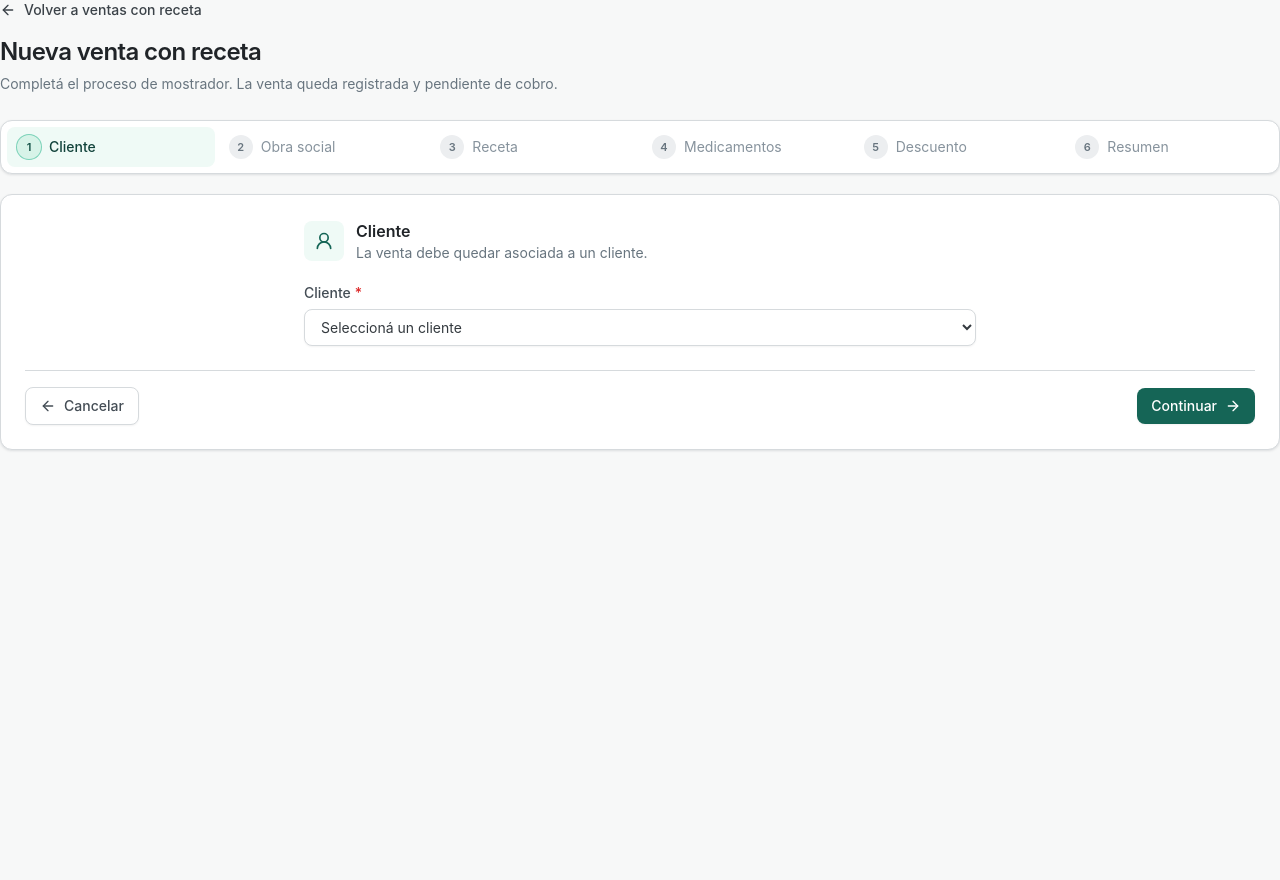
Test: deshabilita el vencido en venta con receta
The width and height of the screenshot is (1280, 880).
Select "González, María — DNI 28456789" in the dropdown labelled "Cliente*" at [640, 328], box [304,309,976,346]
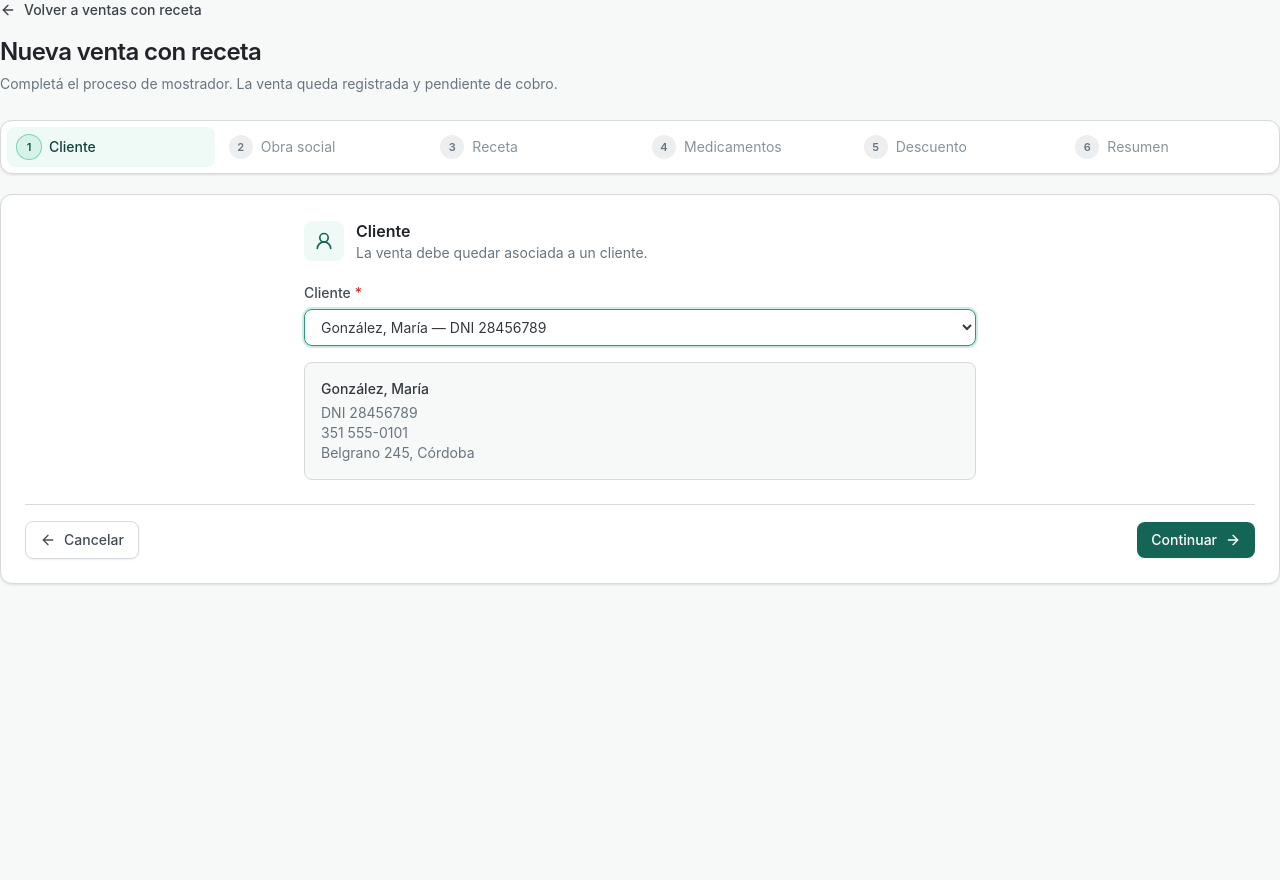
Click the button "Continuar" at [1196, 540], box [1137,522,1255,558]
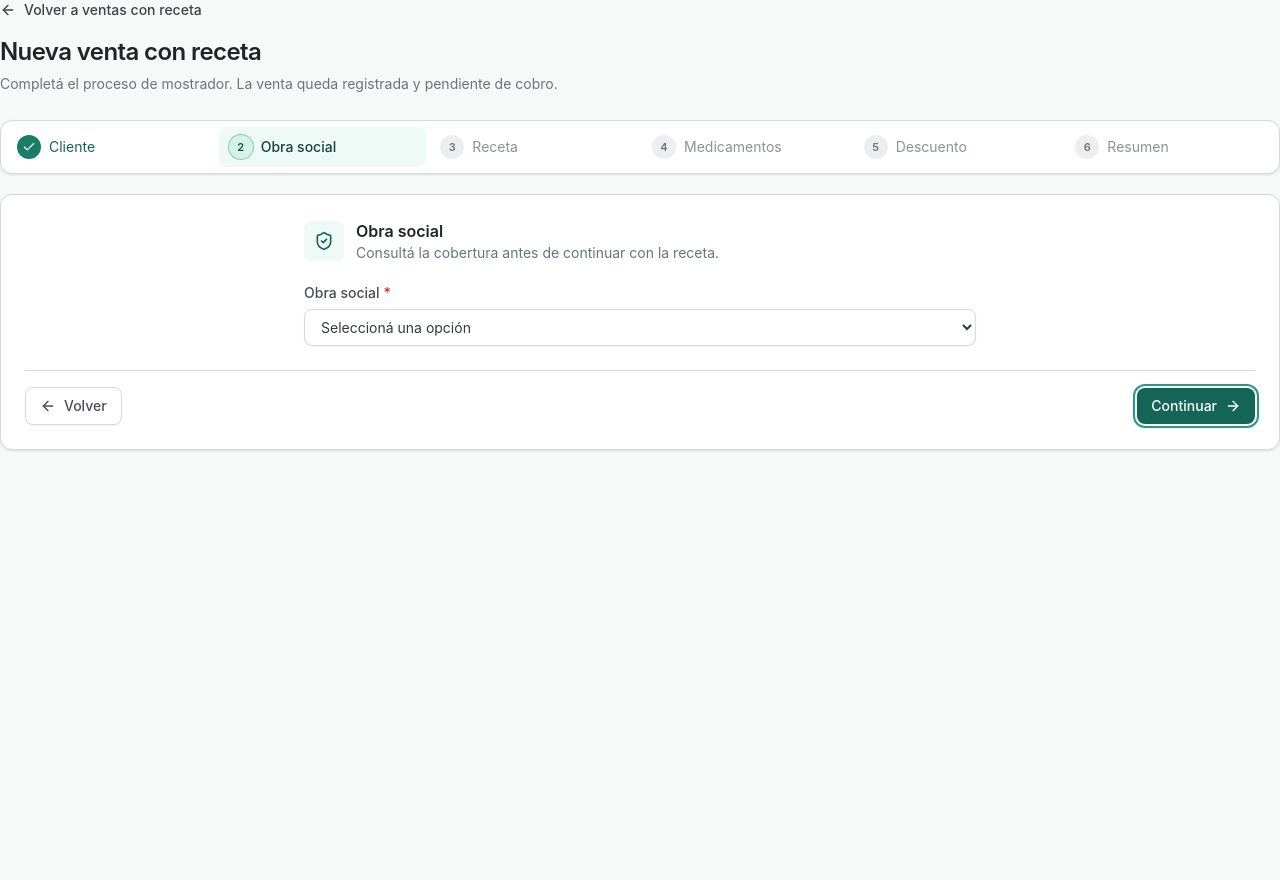
Select "Sin obra social" in the dropdown labelled "Obra social*" at [640, 328], box [304,309,976,346]
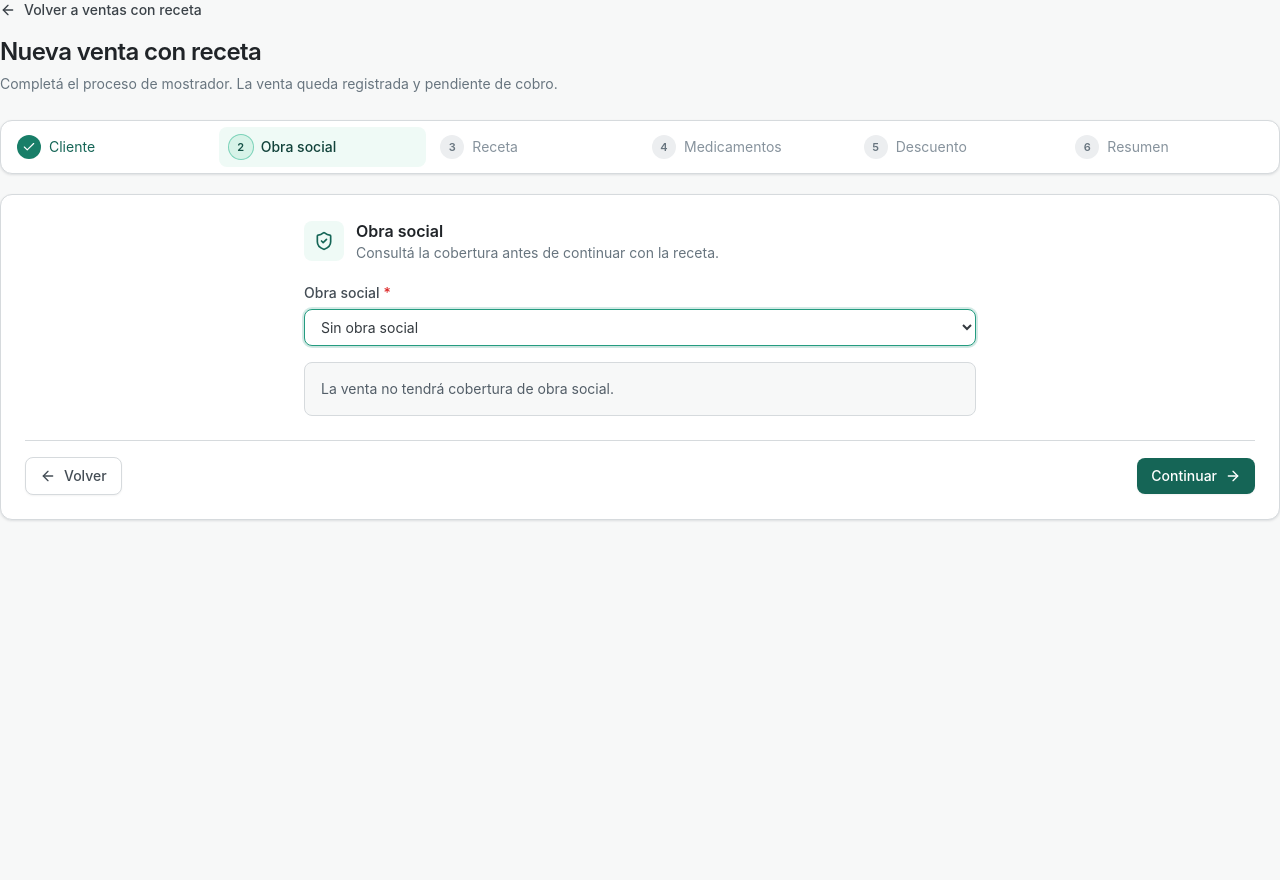
Click the button "Continuar" at [1196, 476], box [1137,458,1255,494]
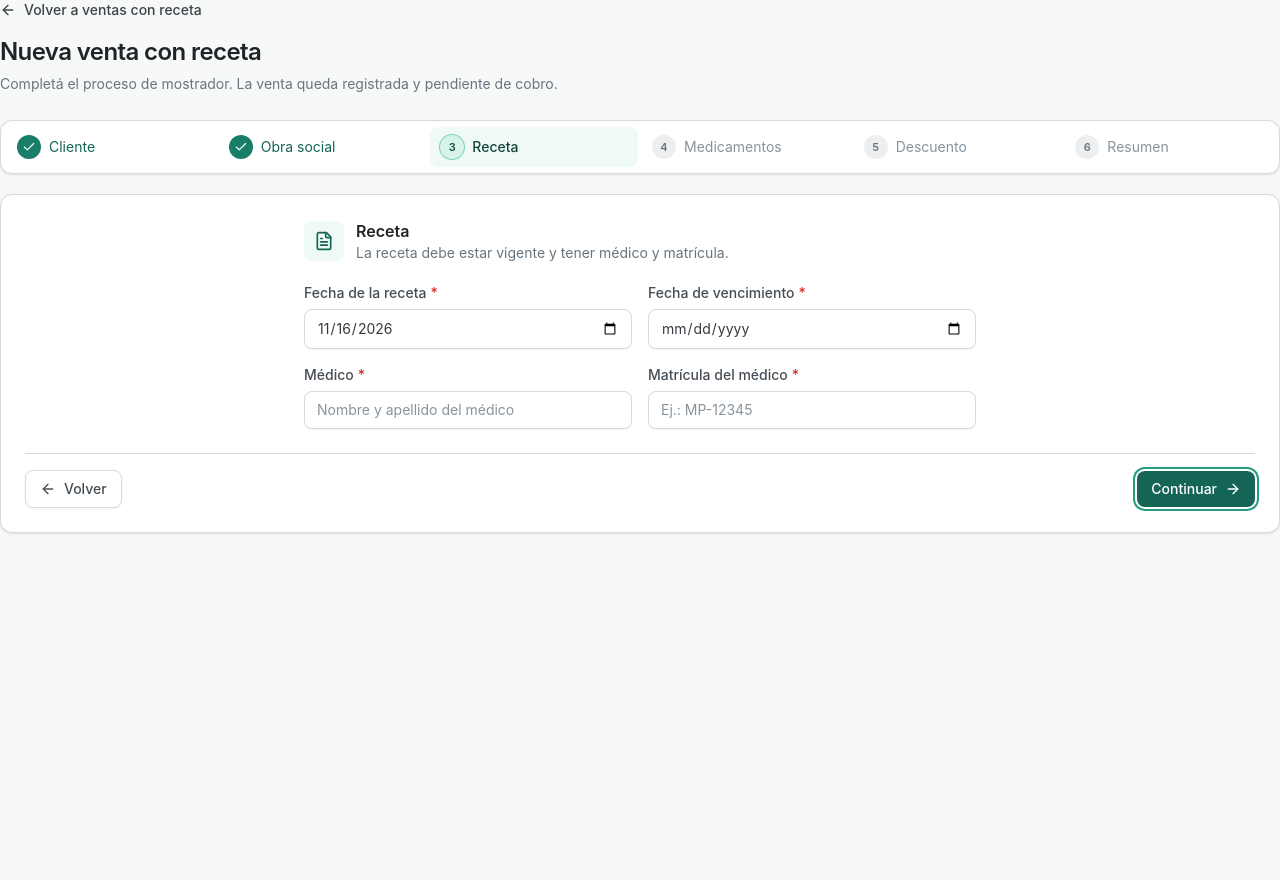
Type "2026-12-16" into the date field labelled "Fecha de vencimiento*" at [812, 329], box [648,309,976,349]
Type "Dra. Pérez" into the field labelled "Médico*" at [468, 410], box [304,391,632,429]
Type "MP123" into the field labelled "Matrícula del médico*" at [812, 410], box [648,391,976,429]
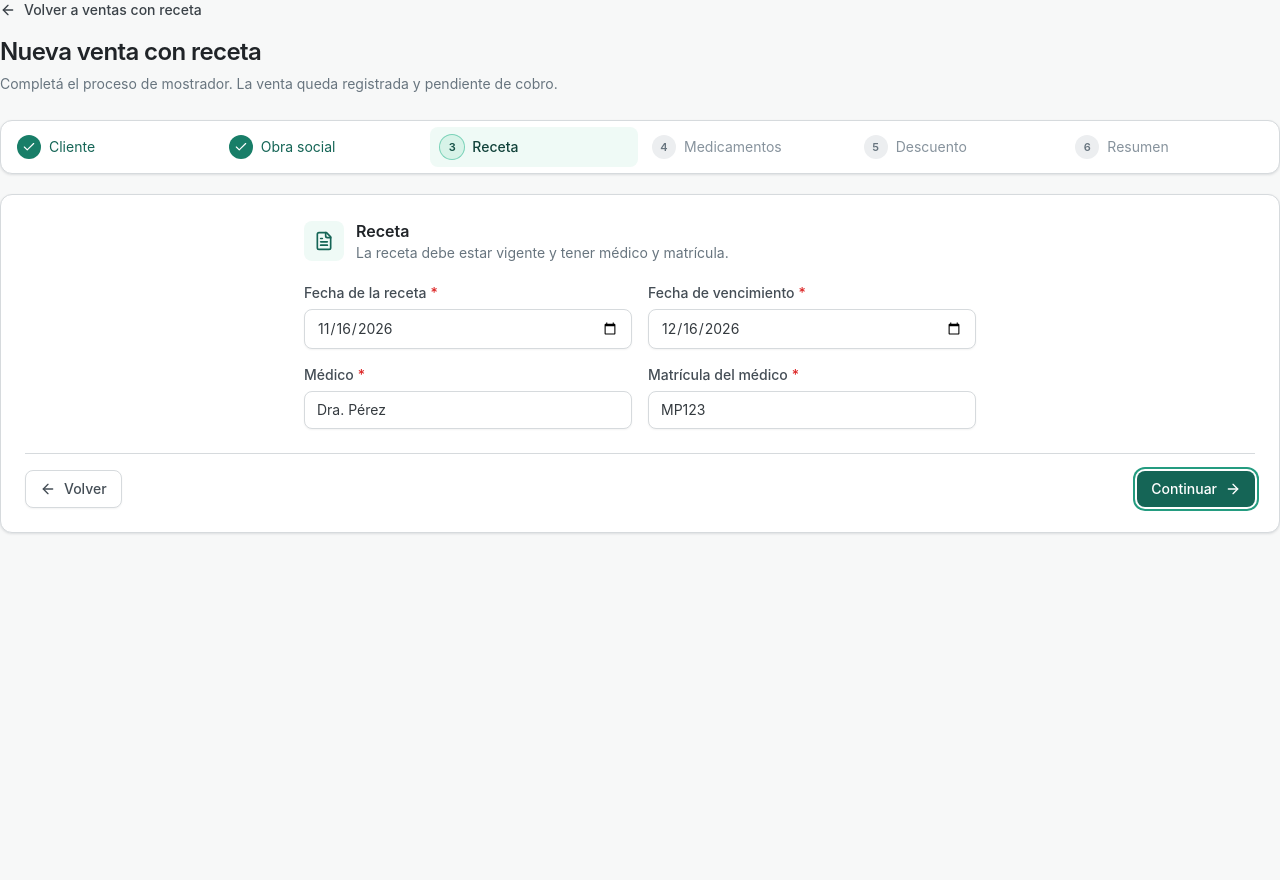
Click the button "Continuar" at [1196, 489], box [1137,471,1255,507]
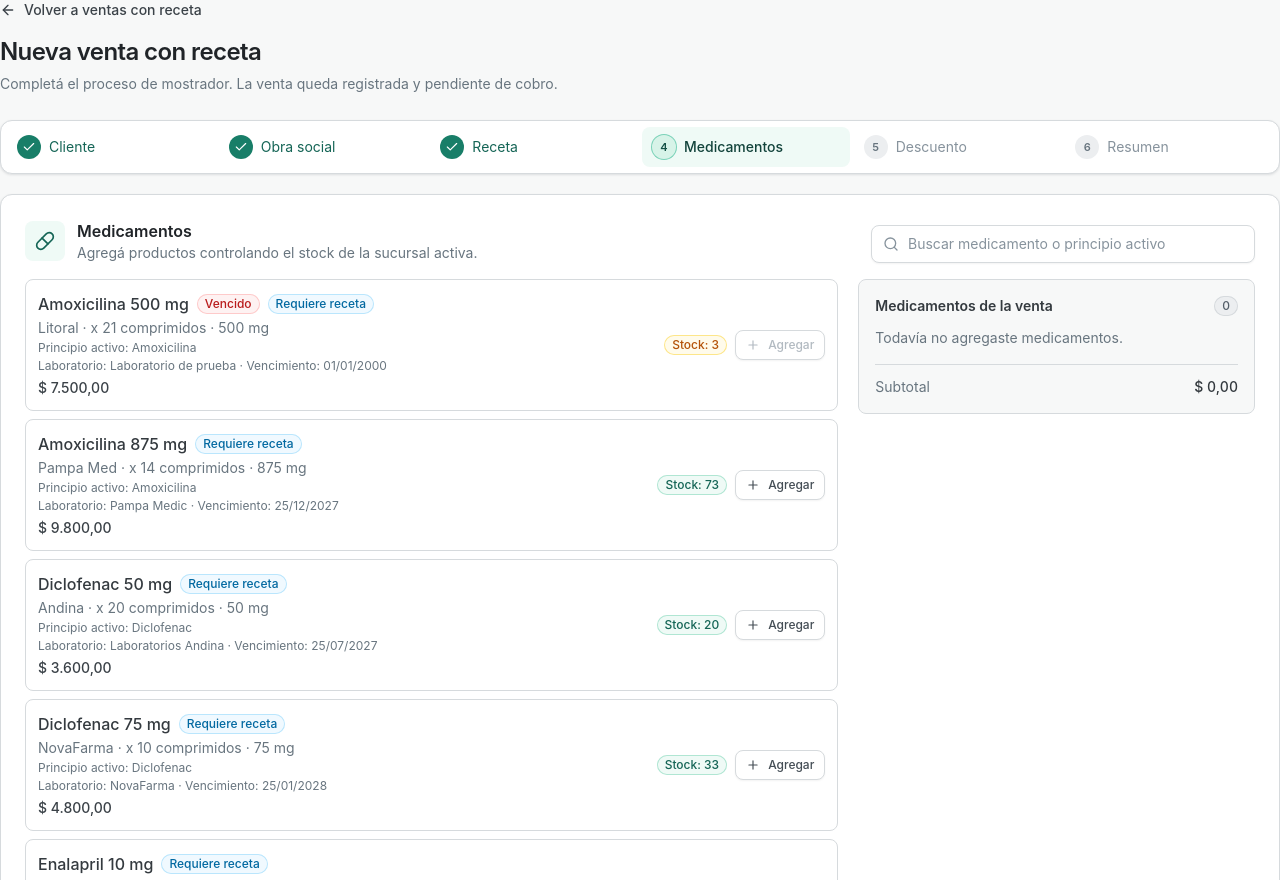
Check: the button with aria-label "Agregar Amoxicilina 500 mg de Litoral" is disabled, box [735,330,825,360]
Check: the text "Vencido" is shown 2 times
Check: the text "Laboratorio: Laboratorio de prueba · Vencimiento: 01/01/2000" is shown, box [38,358,387,374]
